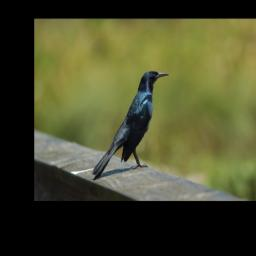Crow: (90, 69, 169, 180)
